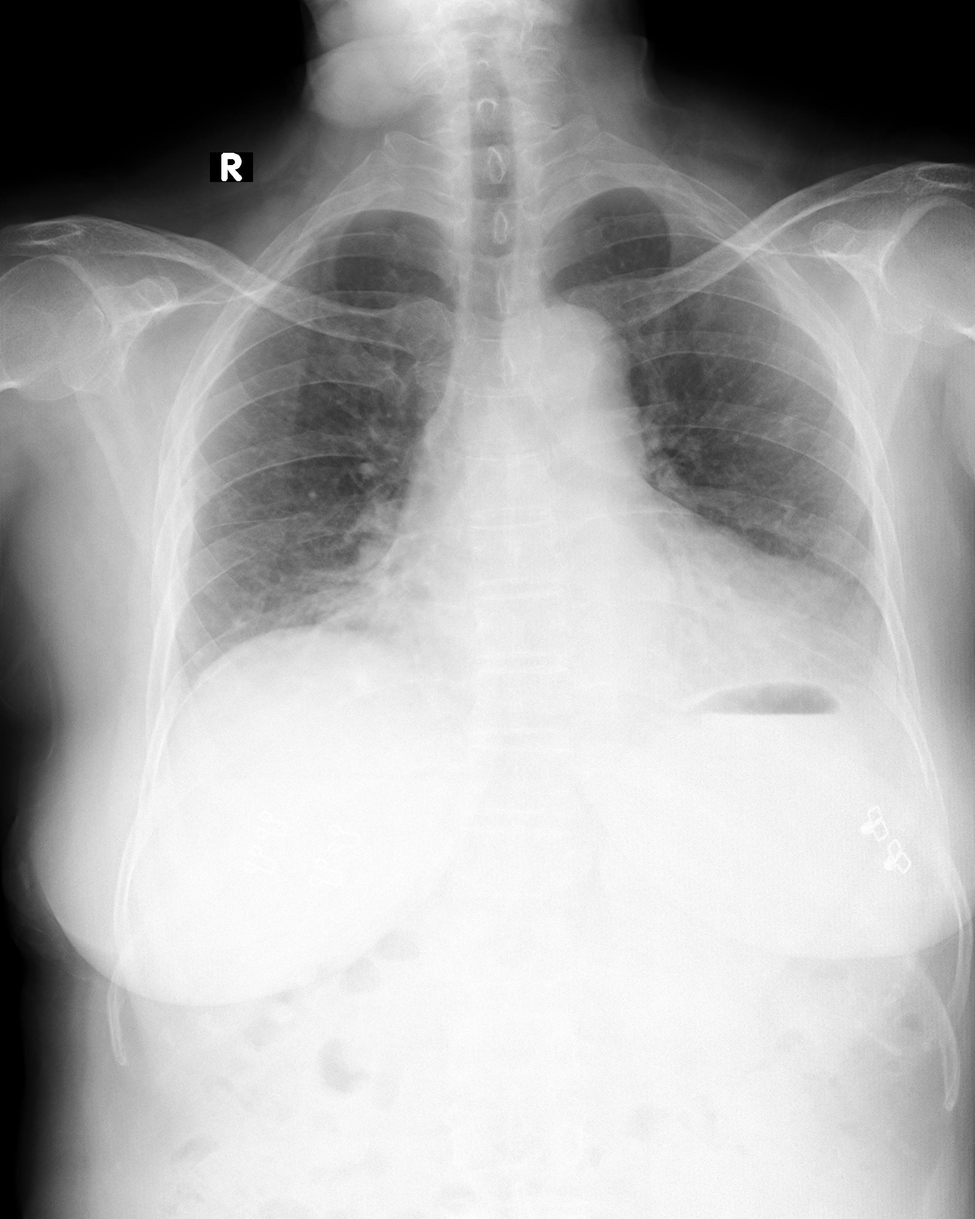Aortic enlargement: (520, 294, 642, 432)
Cardiomegaly: (359, 526, 877, 688)
